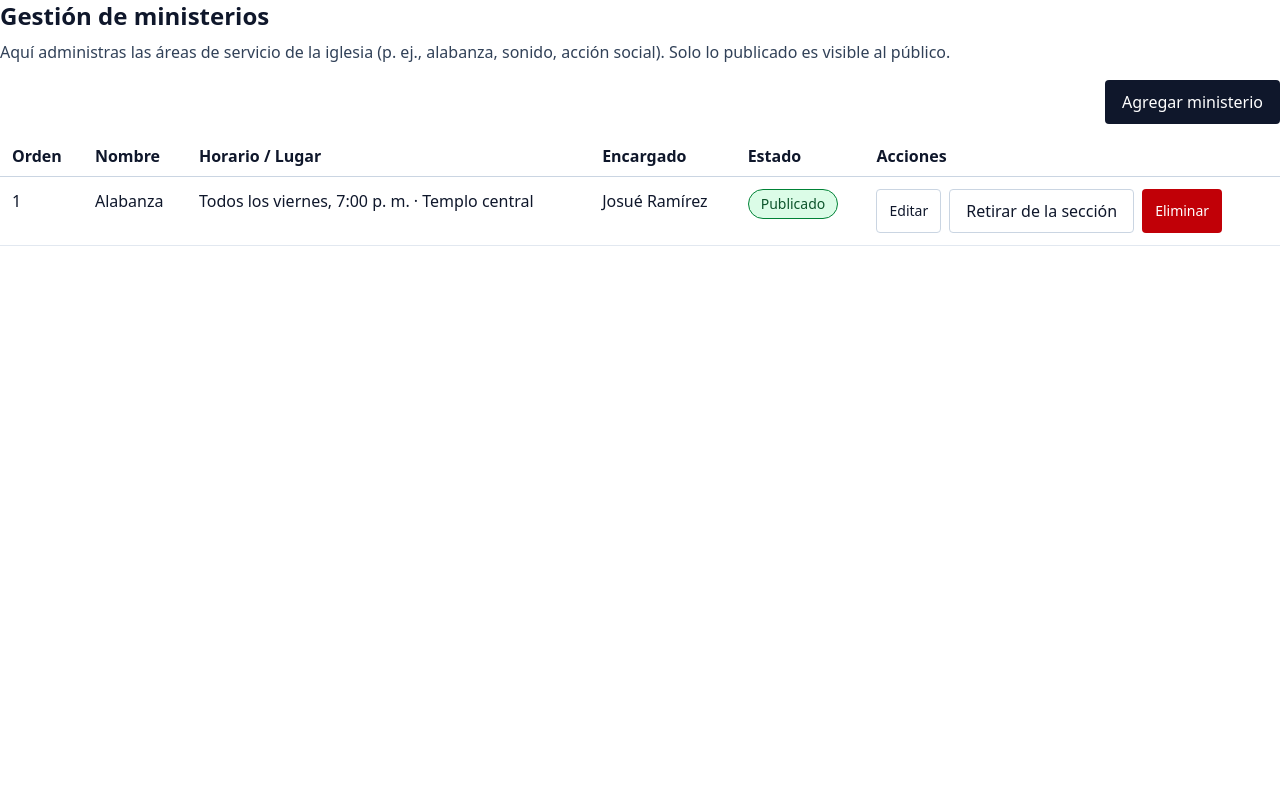
Test: MinistriesPage · listado del panel (US2/US3, ux.md §4.3) › elimina con confirmación explícita de no recuperable
The image size is (1280, 800).
Click the button "Eliminar": (1182, 211) [1142,189,1222,233]
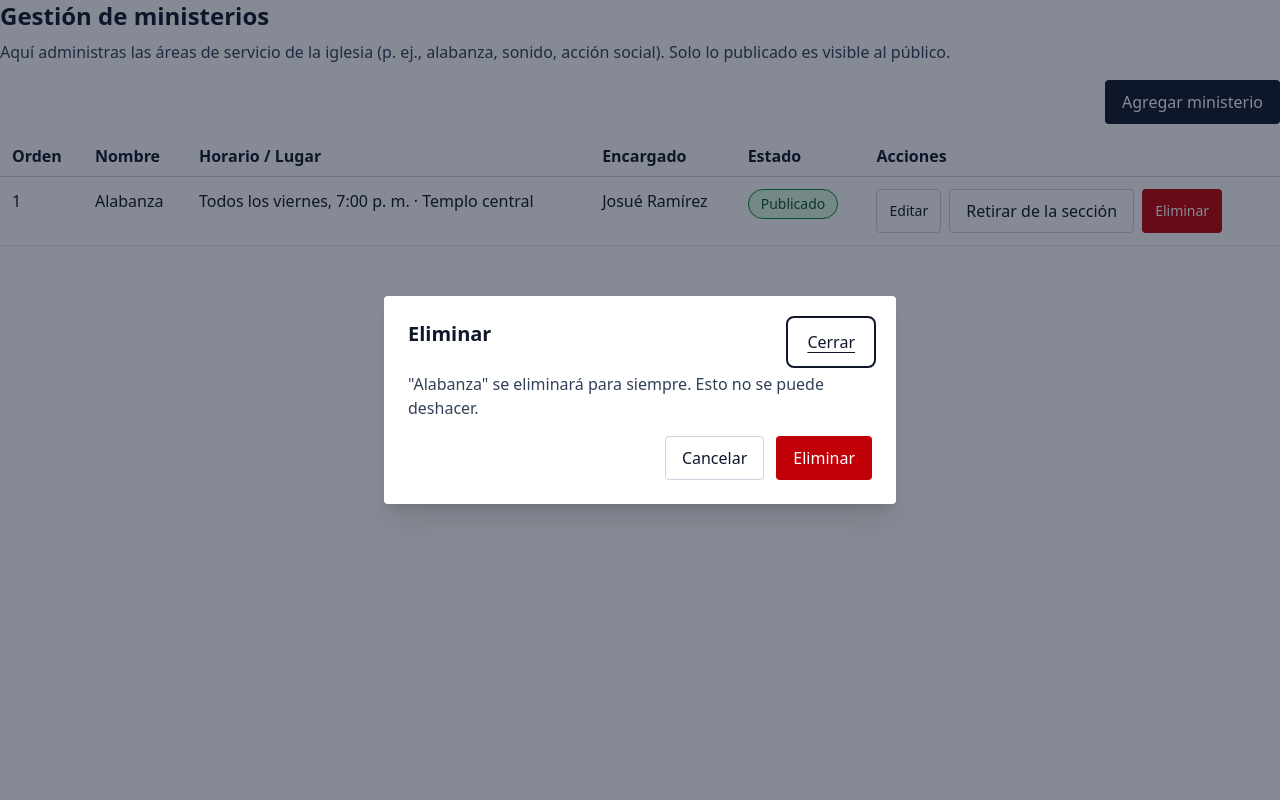
Expected: the text "\"Alabanza\" se eliminará para siempre. Esto no se puede deshacer." is shown, [408,372,872,420]
Click the button "Eliminar": (824, 458) [776,436,872,480]
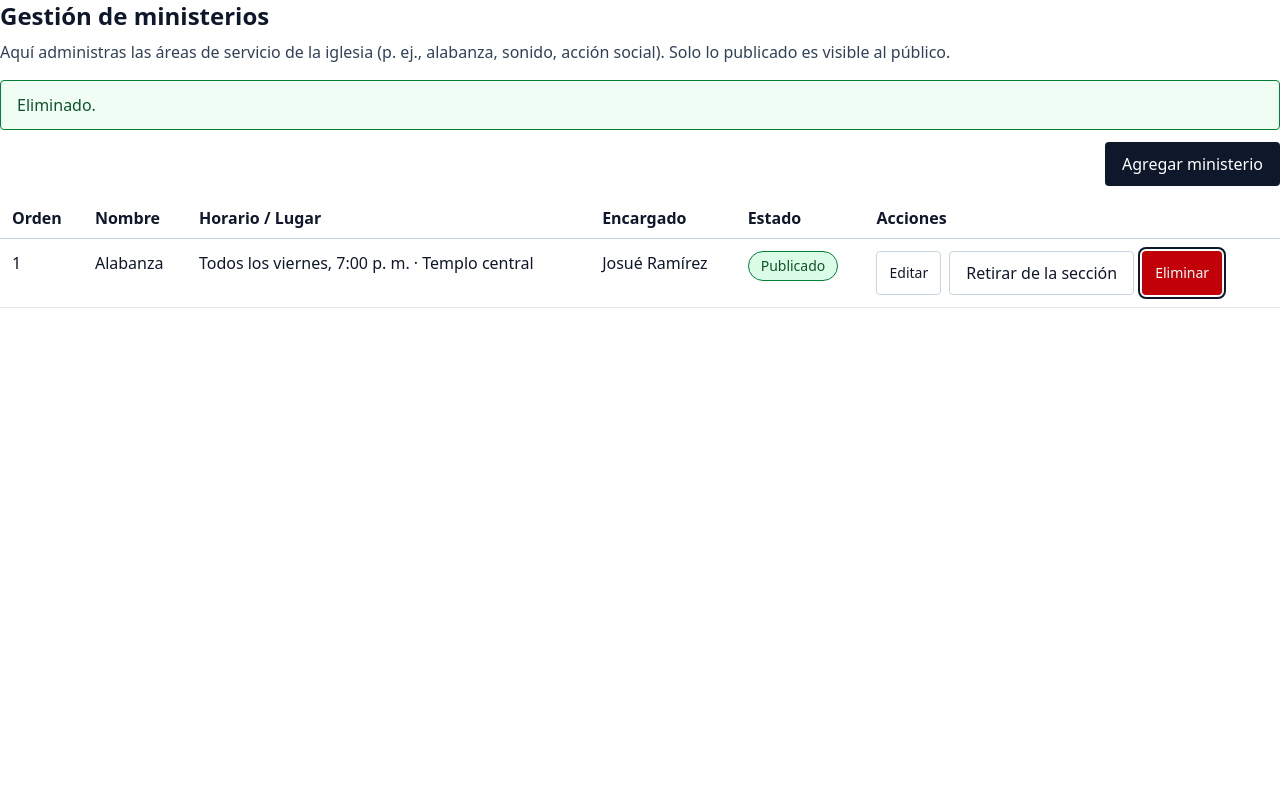
Expected: the text "Eliminado." is shown, [0,80,1279,130]
